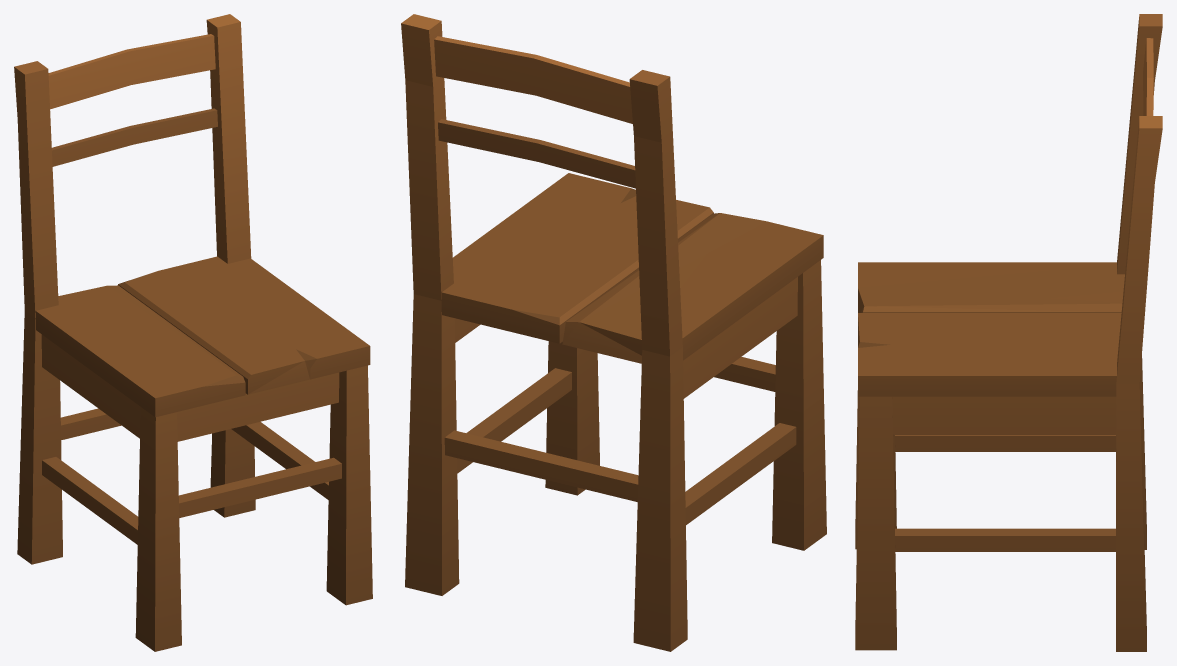
Rendered from Prop_Wooden_Chair_01.obj.
The picture shows the model from 3 angles, left to right: view 1: azimuth 30°, elevation 25°; view 2: azimuth 150°, elevation 25°; view 3: azimuth 270°, elevation 25°; orthographic projection. The views are drawn at different scales.
Parts seen in each view (by area): view 1: Prop_Wooden_Chair_01; view 2: Prop_Wooden_Chair_01; view 3: Prop_Wooden_Chair_01.
Boxes of the visible parts, bbox=[...] form: Prop_Wooden_Chair_01: bbox=[14, 14, 372, 651]; Prop_Wooden_Chair_01: bbox=[401, 14, 826, 651]; Prop_Wooden_Chair_01: bbox=[855, 14, 1162, 651].
Size of the model in its own units: 0.5079 by 1.04 by 0.5574.
1 material, 1 textured.
